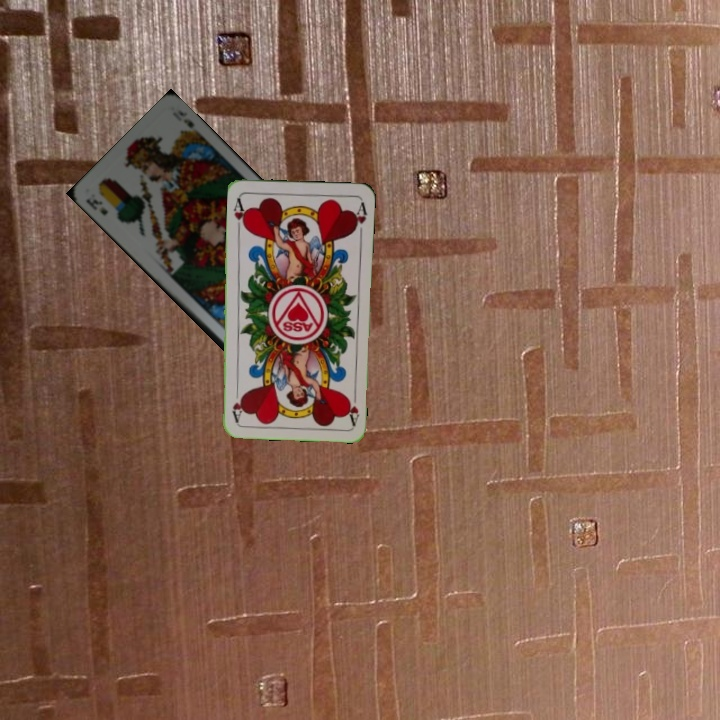EK: (82, 193, 110, 218)
HA: (230, 193, 249, 234), (343, 386, 362, 427)
